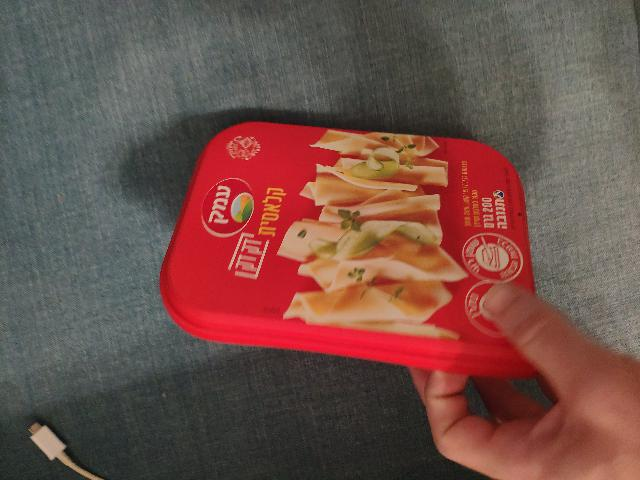cheese: (179, 112, 524, 363)
